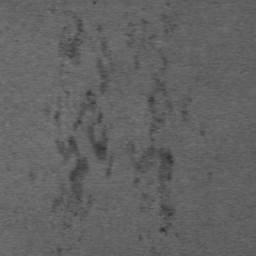Iron scale compression: (123, 23, 192, 141), (127, 144, 177, 217), (73, 90, 112, 177), (55, 136, 88, 200), (57, 15, 84, 58), (95, 56, 109, 96), (101, 41, 113, 69), (159, 224, 172, 235), (96, 24, 103, 33), (141, 18, 148, 25)
